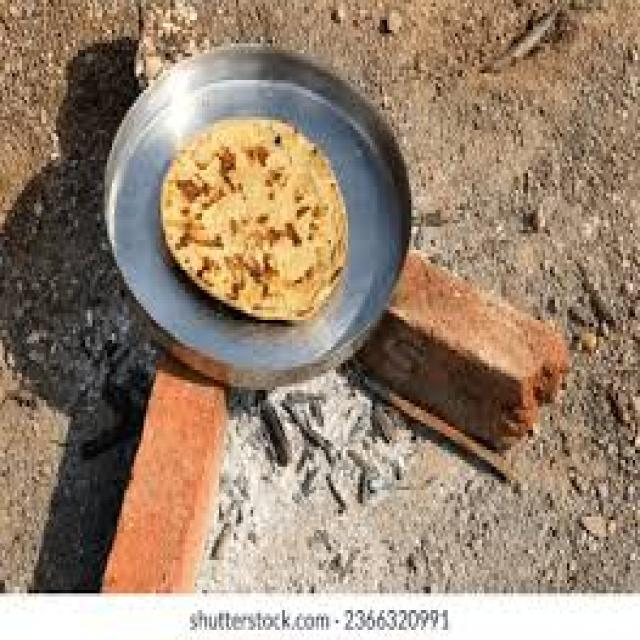DOSA: (134, 0, 638, 350), (102, 367, 224, 587)
